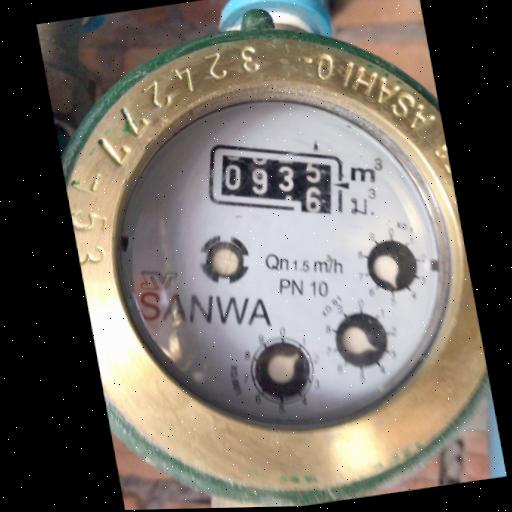0: (212, 151, 254, 202)
3: (265, 155, 309, 206)
5: (291, 158, 340, 218)
9: (238, 153, 281, 203)
border_water_meter_number: (195, 123, 362, 235)
